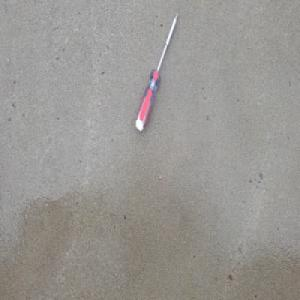Screwdriver: (134, 11, 179, 133)
